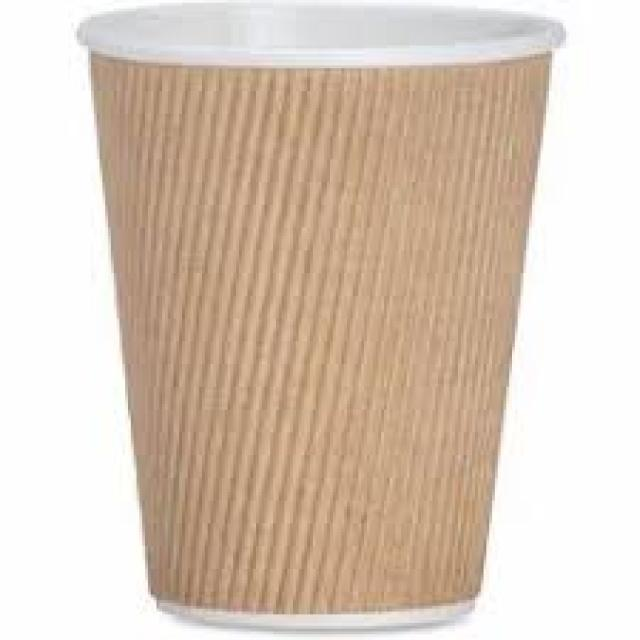PaperCardboard: (73, 1, 569, 636)
